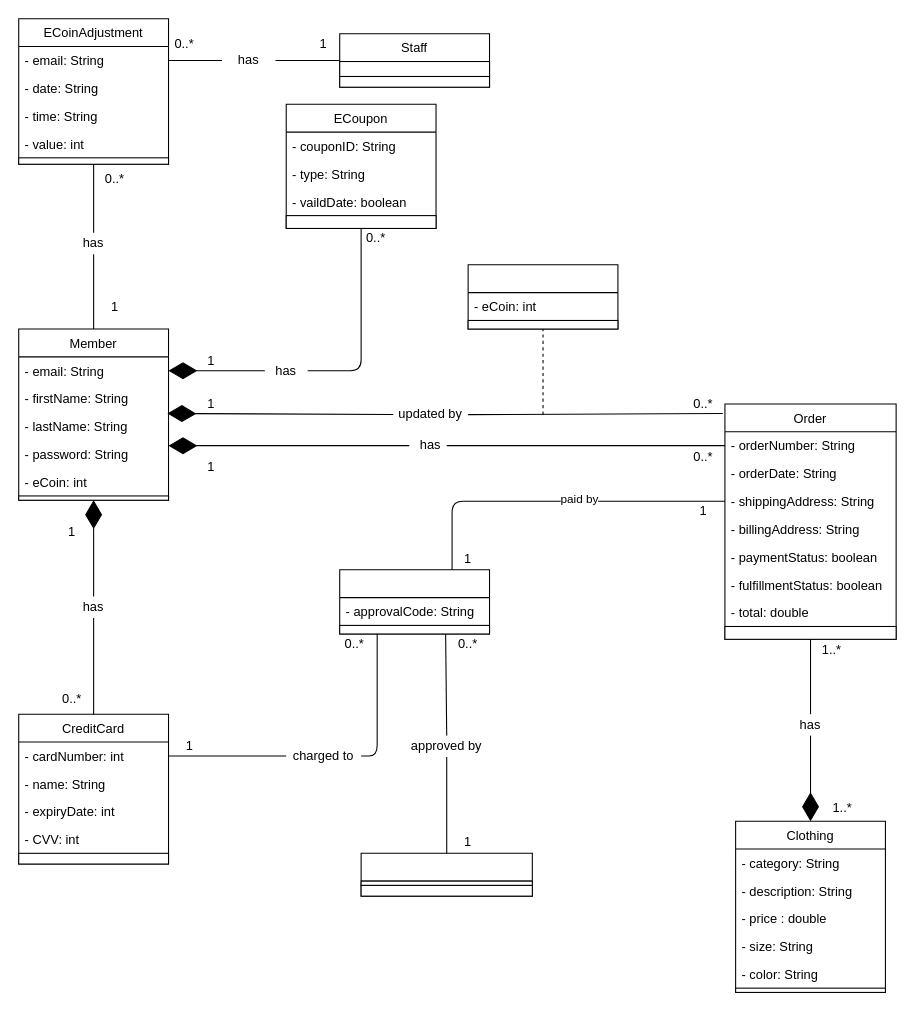
Image size: 915x1011. Some labels were removed from this diagram. Each missing label, with the box of its shape:
CreditCardPayment: (339, 569, 490, 634)
ExternalPaymentGateway: (360, 852, 532, 896)
RedeemECoin: (467, 264, 618, 329)
